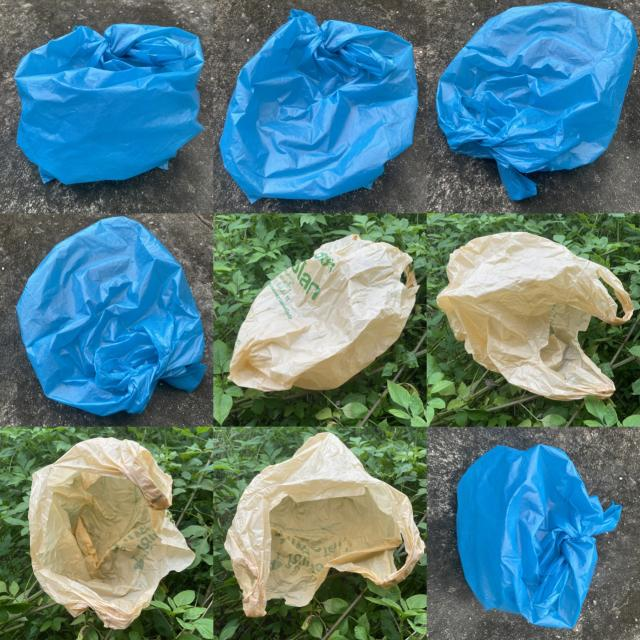Single-layer Plastic: (436, 2, 638, 199), (220, 9, 418, 202), (18, 218, 205, 416), (225, 432, 424, 617), (436, 232, 634, 399), (29, 438, 195, 629), (15, 24, 204, 184), (458, 445, 621, 628), (230, 235, 418, 391)
